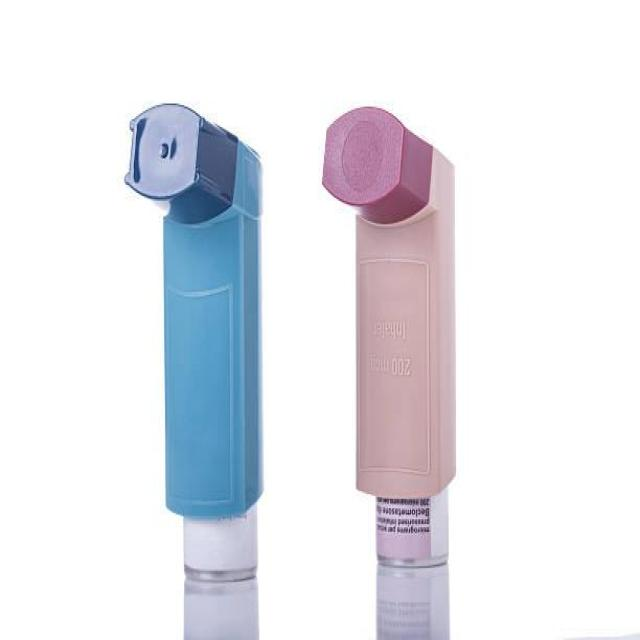B3: (121, 91, 275, 591), (316, 91, 467, 582)
